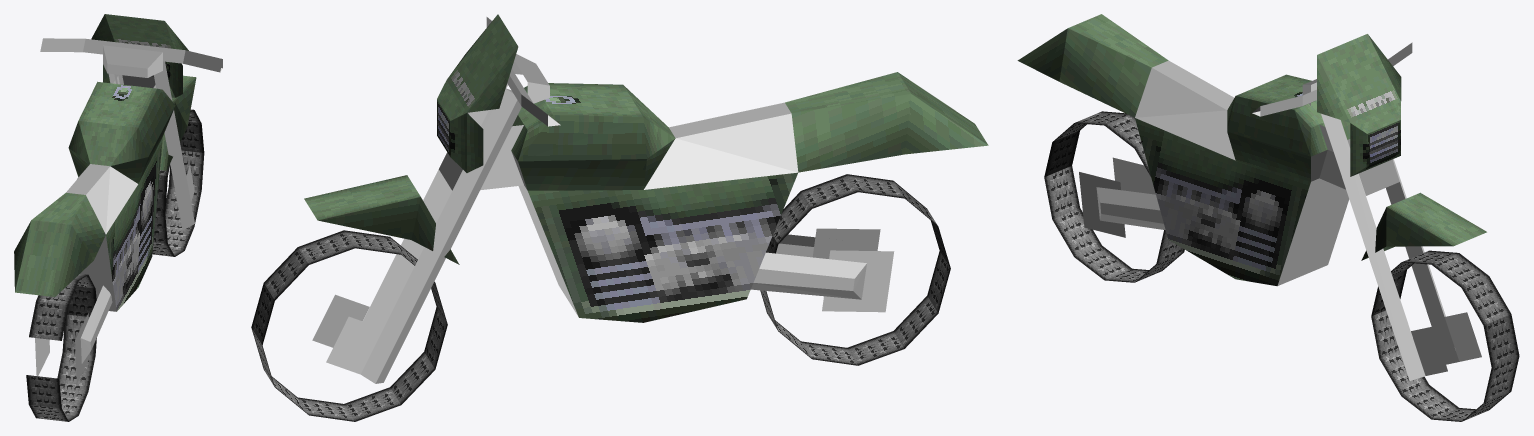
The model's file is primary_022.glb.
3 views of the same model, side by side, from view 1: azimuth 30°, elevation 25°; view 2: azimuth 150°, elevation 25°; view 3: azimuth 270°, elevation 25° (orthographic). The views are drawn at different scales.
Parts seen in each view (by area): view 1: Object; view 2: Object; view 3: Object.
Boxes of the visible parts, left/top/right/bottom form: Object: left=14, top=14, right=222, bottom=421; Object: left=251, top=14, right=988, bottom=421; Object: left=1017, top=14, right=1519, bottom=421.
Bounding box in the file's own units: 0.6101 × 0.4338 × 0.6063.
Materials: 56 (56 with a texture image).
